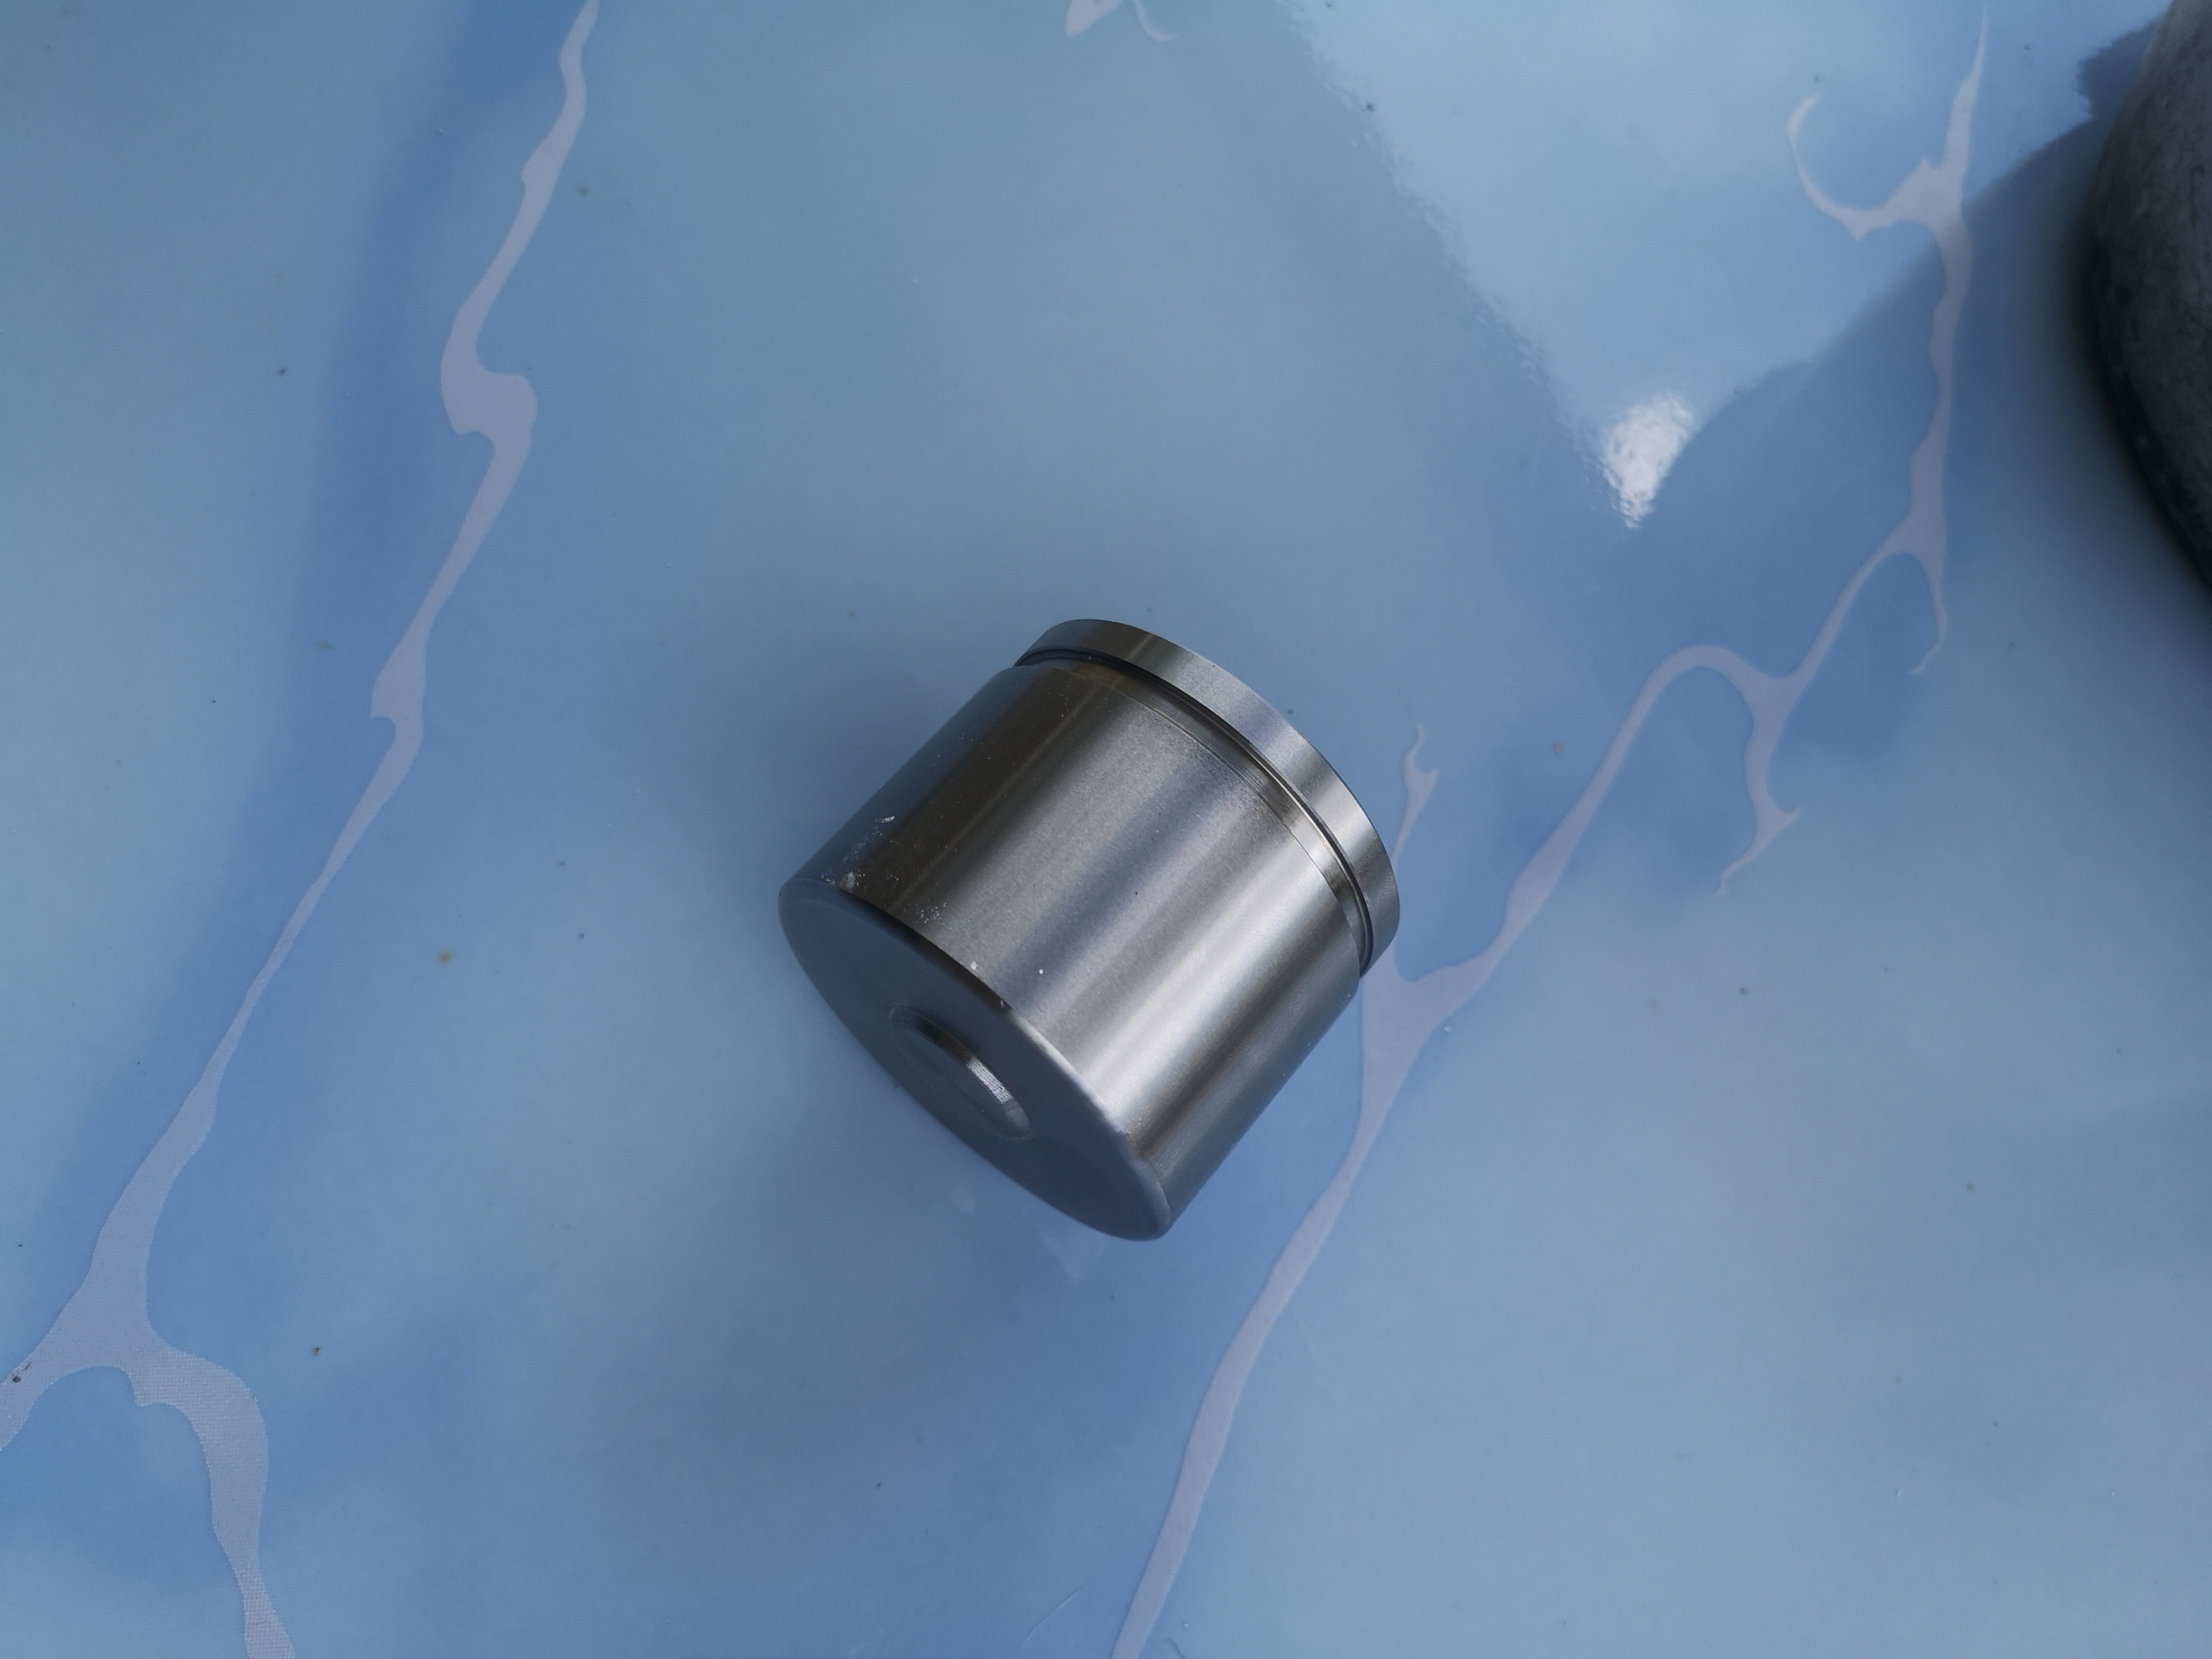ลูกสูบดิสเบรค: (725, 613, 1364, 1251)
